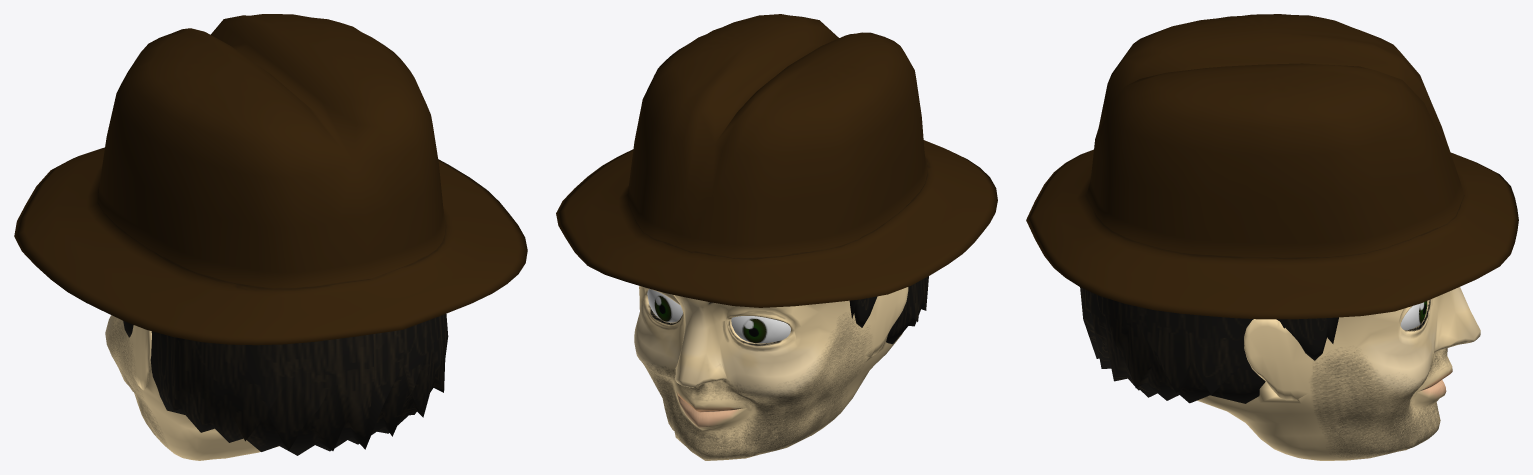
File: mainguyhead.fbx
3 renders of one model, left to right at view 1: azimuth 30°, elevation 25°; view 2: azimuth 150°, elevation 25°; view 3: azimuth 270°, elevation 25°, orthographic. The views are drawn at different scales.
Parts seen in each view (by area): view 1: Cube; view 2: Cube; view 3: Cube.
Part boxes in pixels (<box>): Cube: <box>14,14,527,460</box>; Cube: <box>556,14,997,460</box>; Cube: <box>1026,14,1518,460</box>.
Bounding box in the file's own units: 2.1 × 2.02 × 2.27.
